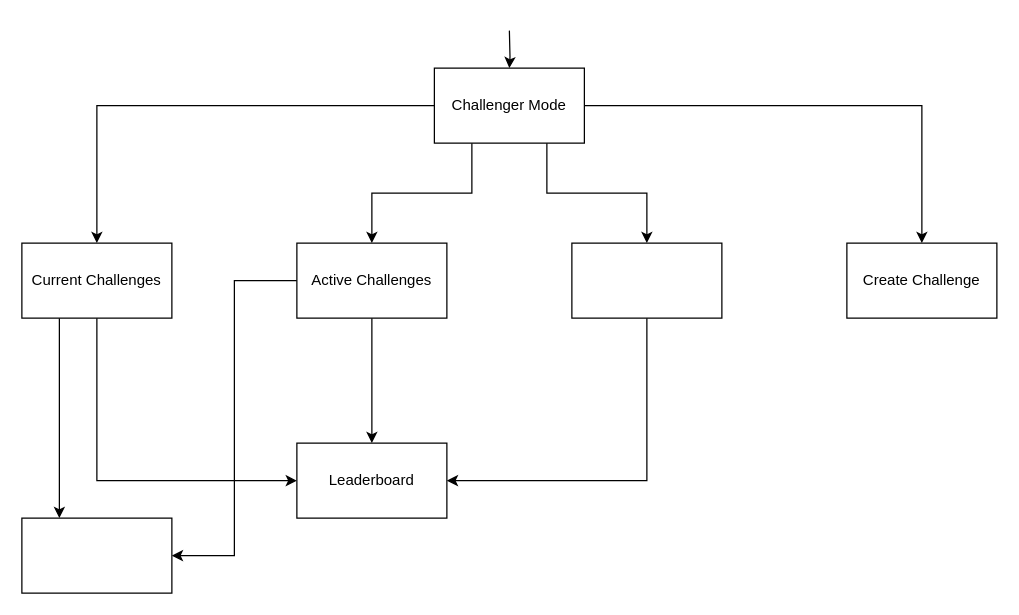
This 1019x615 diagram has some shape labels left out. Each missing label, with the centre of its shape:
"Challenge Tree" goes at pixel 96 555.
"Challenges By You" goes at pixel 646 280.
